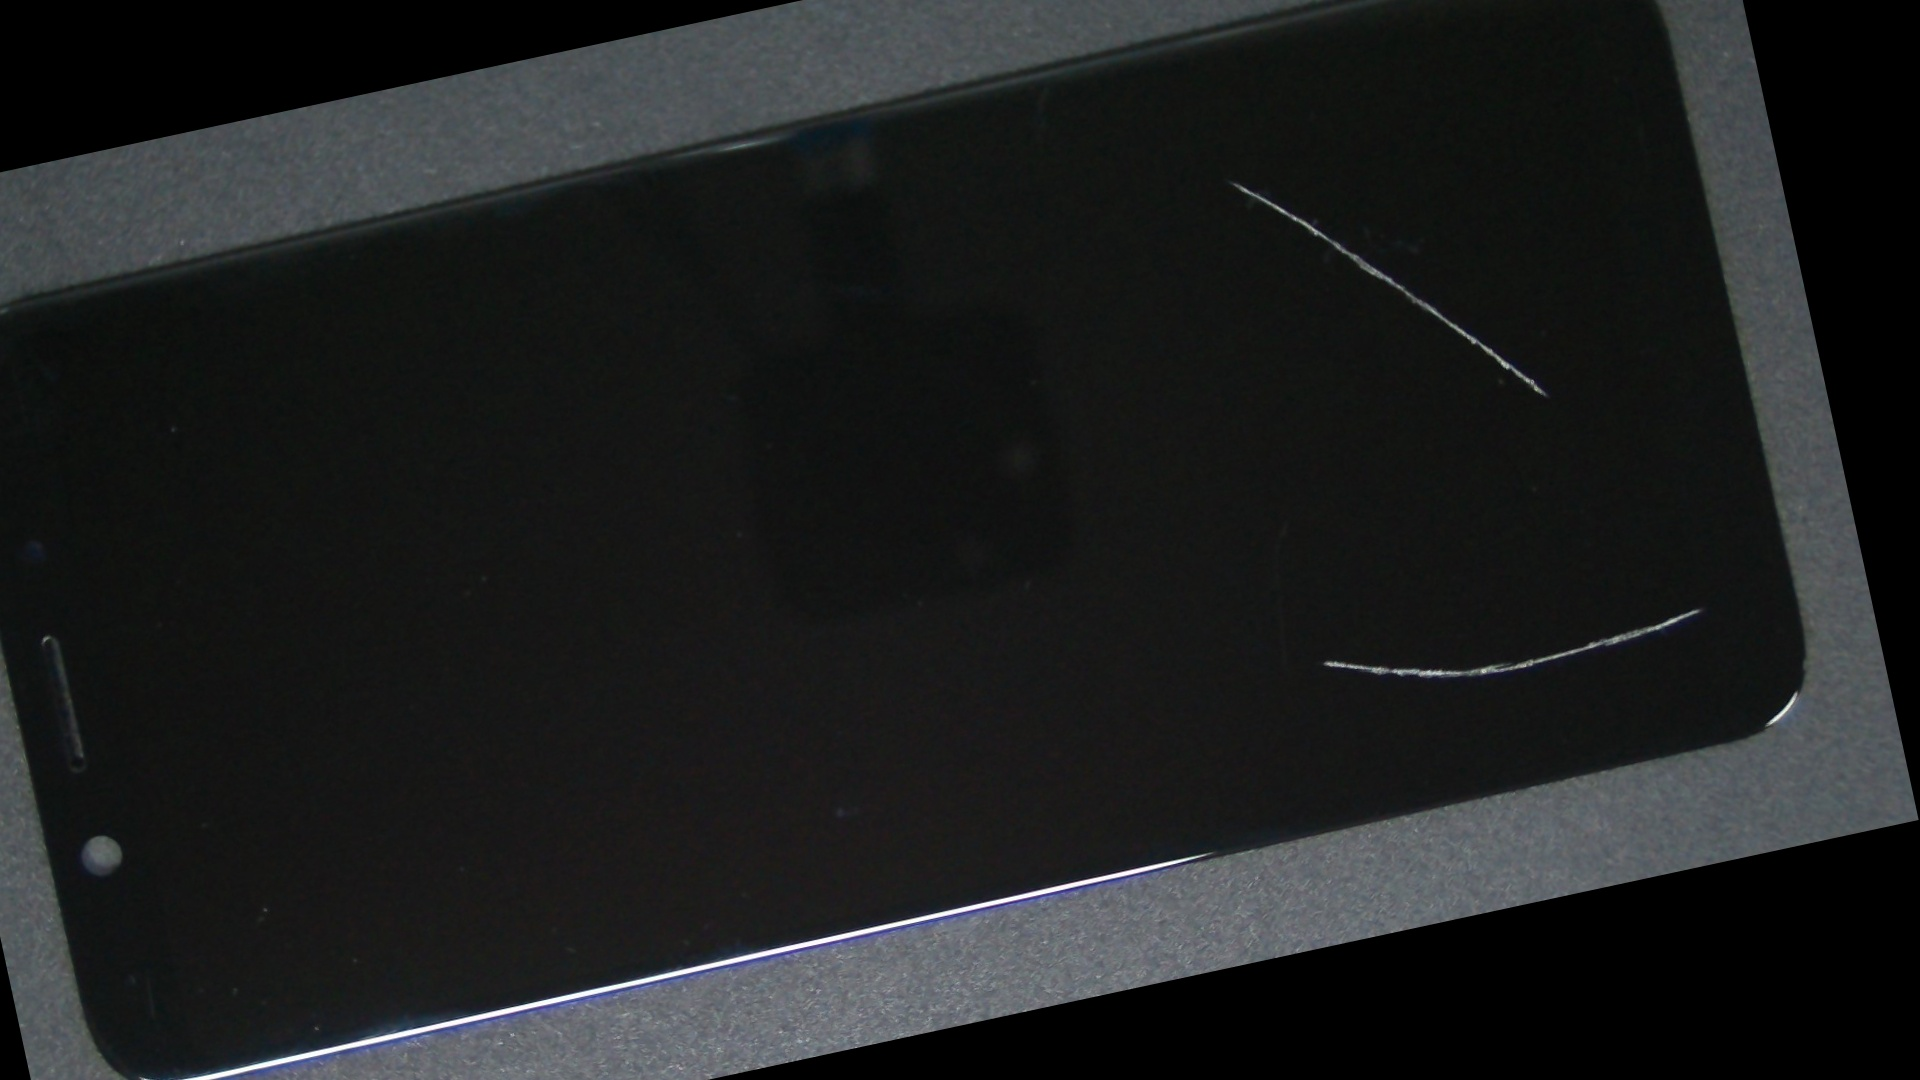oil: (584, 175, 1919, 1076), (537, 0, 1785, 458)
